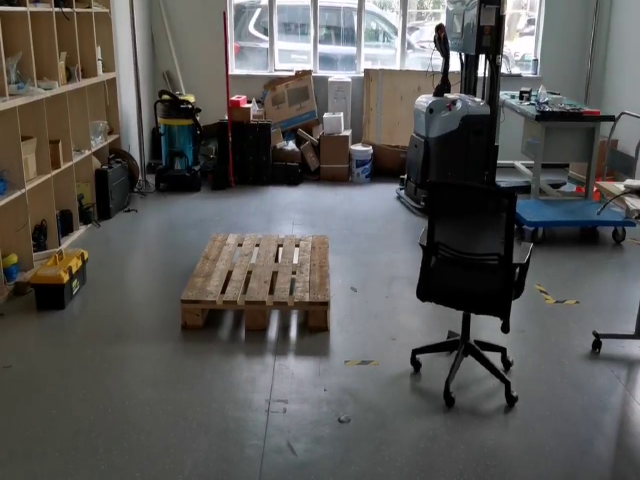block: (300, 300, 329, 331), (176, 300, 205, 329), (245, 301, 270, 332)
front: (179, 301, 330, 331)
hole pallet: (202, 308, 244, 334), (268, 308, 302, 331)
